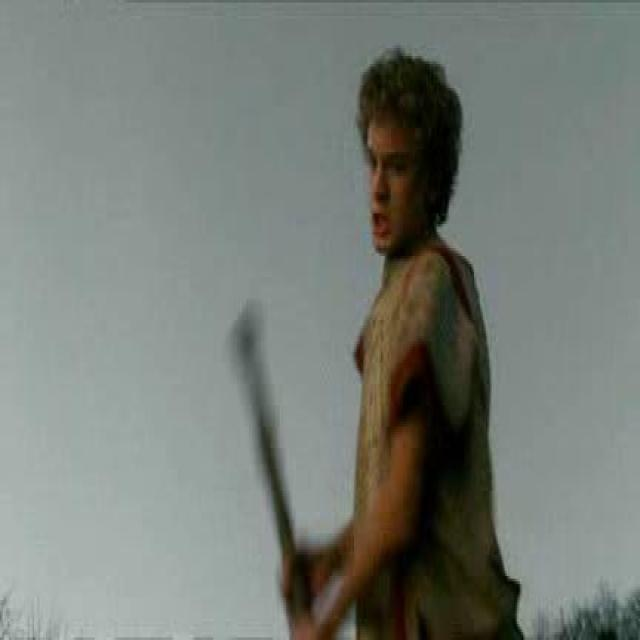fight: (175, 0, 595, 640)
